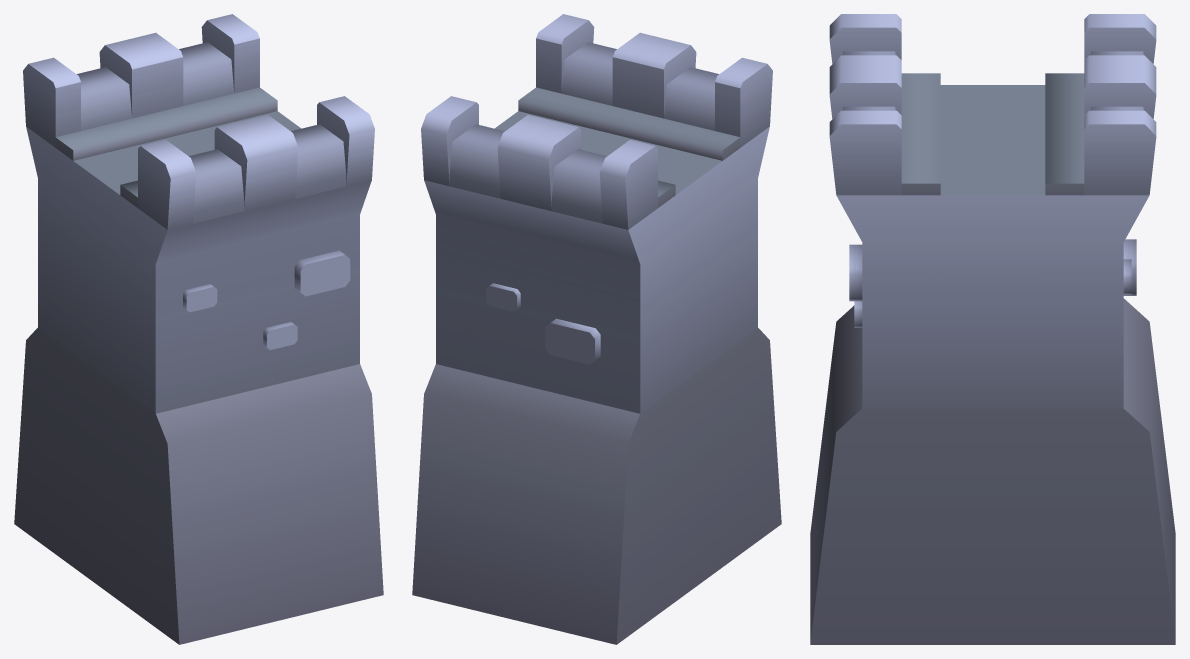
File: castle-wall.glb
3 renders of one model, left to right at view 1: azimuth 30°, elevation 25°; view 2: azimuth 150°, elevation 25°; view 3: azimuth 270°, elevation 25°, orthographic. The views are drawn at different scales.
Parts seen in each view (by area): view 1: castle-wall; view 2: castle-wall; view 3: castle-wall.
Part boxes in pixels (x1,y1,x2,y2): castle-wall: (14,14,383,644); castle-wall: (412,14,781,644); castle-wall: (810,14,1175,644).
Size of the model in its own units: 2 by 4.4 by 2.8.
1 material, 1 textured.
